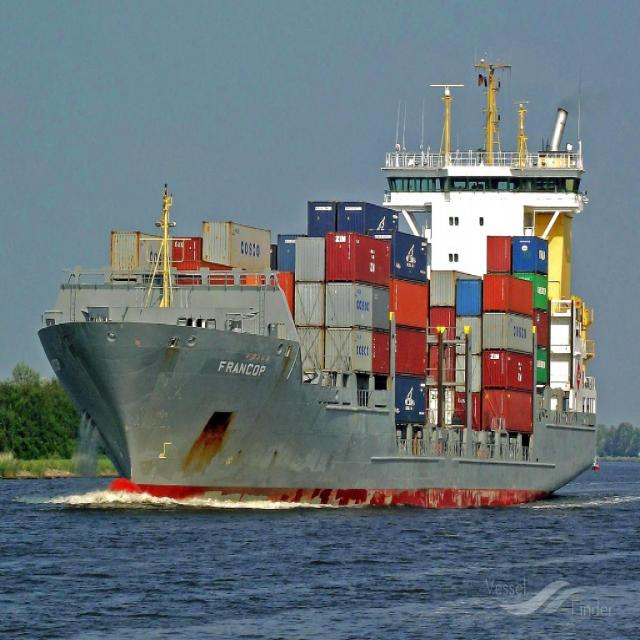Container Ship: (36, 57, 595, 511)
